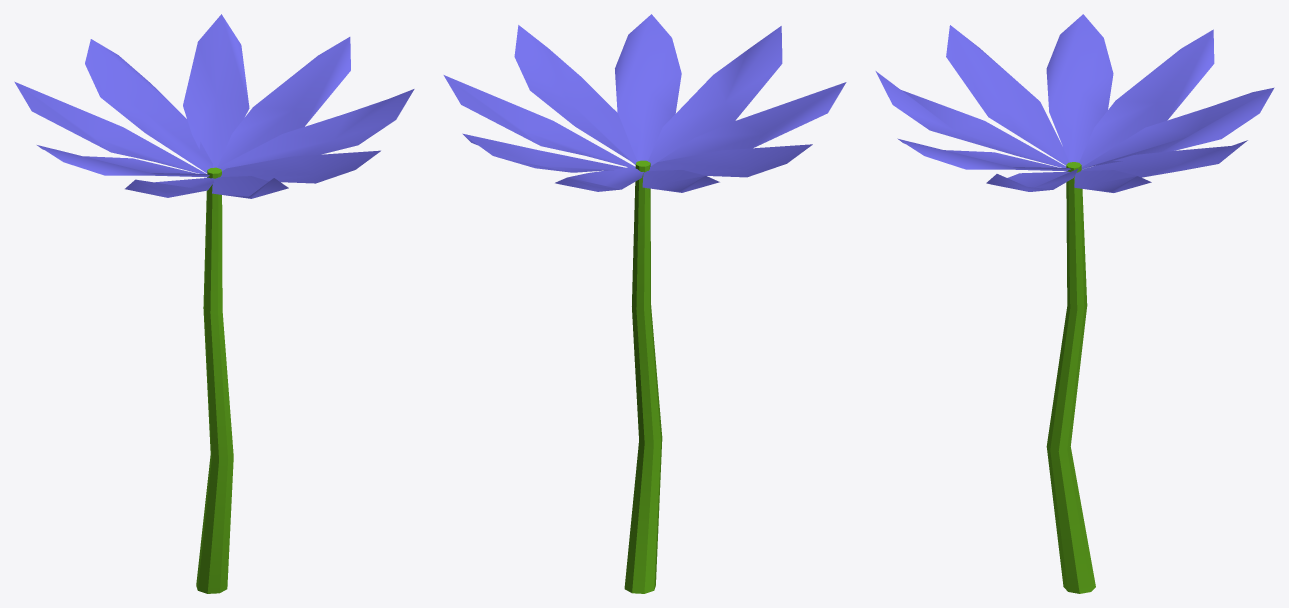
Rendered from Flower 6.fbx.
3 renders of one model, left to right at view 1: azimuth 30°, elevation 25°; view 2: azimuth 150°, elevation 25°; view 3: azimuth 270°, elevation 25°, orthographic.
Visible parts, largest first — view 1: Flower_6; view 2: Flower_6; view 3: Flower_6.
Part boxes in pixels (box(x1,y1,x2,y2)): Flower_6: box(14, 14, 414, 593); Flower_6: box(443, 14, 846, 593); Flower_6: box(875, 14, 1274, 593).
Size of the model in its own units: 48.37 by 66.9 by 48.69.
Materials: 1 (1 with a texture image).
